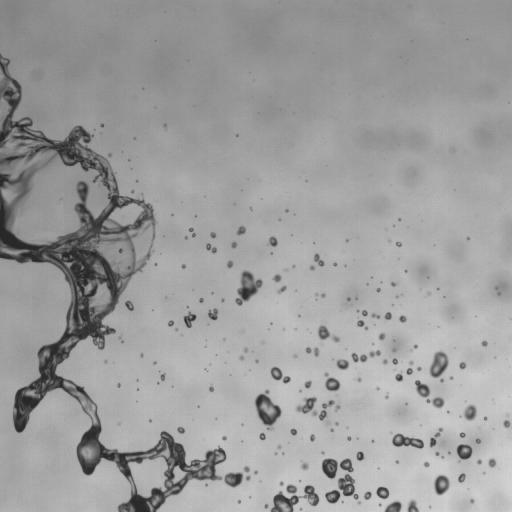droplet: (321, 458, 358, 503), (254, 389, 281, 429), (295, 397, 334, 424), (235, 270, 262, 305), (429, 350, 448, 381), (433, 474, 449, 495), (324, 372, 340, 391), (456, 444, 472, 460), (462, 404, 476, 421), (183, 312, 196, 327), (383, 501, 402, 511), (376, 486, 389, 499), (407, 499, 419, 511), (336, 359, 349, 369), (314, 254, 324, 266), (208, 308, 218, 320), (306, 347, 319, 356), (206, 243, 216, 253), (268, 236, 277, 246), (236, 226, 245, 235), (502, 419, 511, 428), (125, 300, 133, 310), (395, 372, 403, 381), (356, 451, 364, 460), (488, 458, 496, 467), (300, 461, 308, 470), (273, 274, 281, 282), (277, 286, 286, 293), (458, 473, 465, 482), (364, 491, 371, 499), (399, 315, 406, 322), (378, 333, 385, 340), (459, 362, 466, 369), (304, 381, 311, 388), (290, 428, 297, 435), (227, 260, 233, 268), (177, 427, 185, 433), (385, 312, 391, 319), (259, 432, 265, 439), (371, 313, 379, 318), (361, 310, 367, 316), (481, 340, 487, 346), (392, 358, 398, 364), (406, 368, 412, 374), (334, 405, 340, 411), (231, 242, 236, 248), (168, 320, 173, 326), (459, 432, 465, 437), (244, 466, 249, 472), (310, 434, 314, 441), (210, 232, 215, 237), (382, 359, 387, 364), (424, 462, 429, 467), (160, 374, 164, 380), (396, 242, 401, 246), (310, 265, 314, 270), (357, 377, 361, 382), (209, 386, 213, 391), (476, 438, 480, 443), (477, 459, 481, 464), (333, 262, 337, 266), (181, 264, 185, 268), (391, 282, 395, 286), (376, 288, 380, 292), (321, 293, 325, 297), (199, 298, 203, 302), (413, 344, 417, 348), (239, 356, 243, 360), (409, 361, 413, 365), (417, 366, 421, 370), (222, 436, 226, 440), (347, 436, 351, 440), (470, 499, 474, 503), (264, 504, 268, 508), (244, 348, 247, 352), (385, 394, 388, 398), (277, 445, 280, 449), (279, 482, 283, 485), (315, 293, 318, 296), (497, 292, 500, 295), (335, 422, 338, 425), (435, 452, 438, 455), (237, 500, 240, 503), (100, 124, 103, 126), (108, 154, 111, 156), (131, 190, 134, 192), (154, 263, 157, 265), (292, 265, 295, 267), (427, 292, 430, 294), (221, 299, 224, 301), (347, 298, 350, 300), (140, 354, 143, 356), (294, 354, 296, 357), (255, 360, 258, 362), (450, 376, 452, 379), (117, 384, 120, 386), (484, 417, 487, 419), (254, 471, 257, 473), (358, 501, 360, 504), (164, 124, 166, 126), (393, 349, 395, 351), (372, 440, 374, 442)
ligament: (0, 54, 248, 511), (270, 484, 319, 511), (414, 380, 444, 408), (392, 433, 423, 449), (318, 325, 339, 342), (351, 350, 380, 362), (270, 366, 290, 383), (429, 428, 442, 447), (357, 319, 367, 329), (189, 227, 195, 236)
